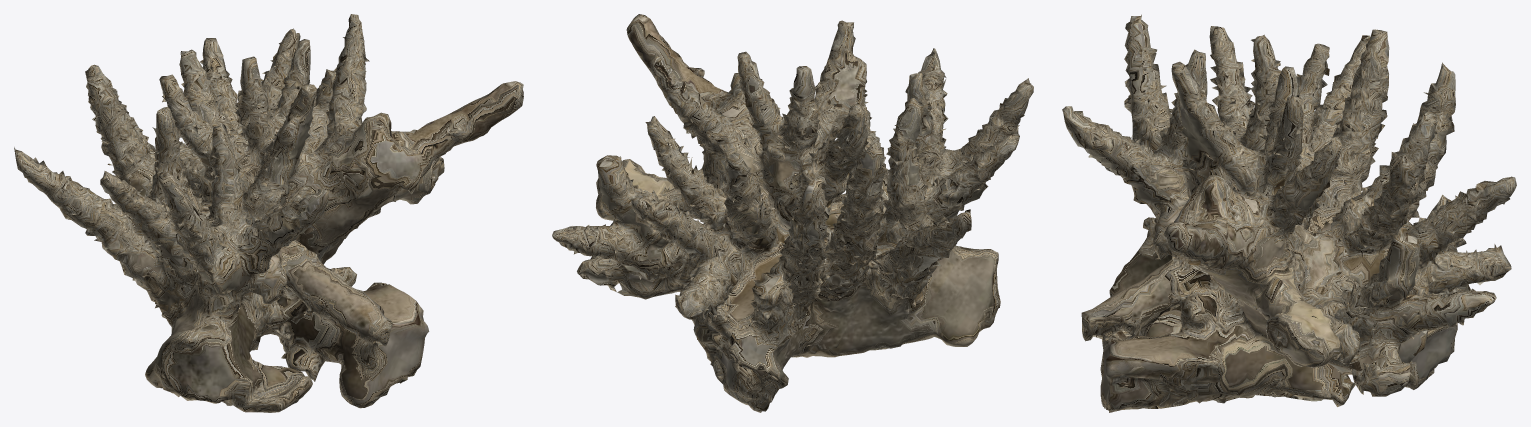
Rendered from nmnhinv_acropora-cervicornis.glb.
3 views of the same model, side by side, from view 1: azimuth 30°, elevation 25°; view 2: azimuth 150°, elevation 25°; view 3: azimuth 270°, elevation 25° (orthographic). The views are drawn at different scales.
Visible parts, largest first — view 1: Spinlab_Piece; view 2: Spinlab_Piece; view 3: Spinlab_Piece.
Part boxes in pixels (x1=…): Spinlab_Piece: x1=14, y1=14, x2=523, y2=412; Spinlab_Piece: x1=552, y1=14, x2=1033, y2=412; Spinlab_Piece: x1=1062, y1=14, x2=1516, y2=412.
Bounding box in the file's own units: 3.44 × 2.35 × 2.92.
Materials: 1 (1 with a texture image).
